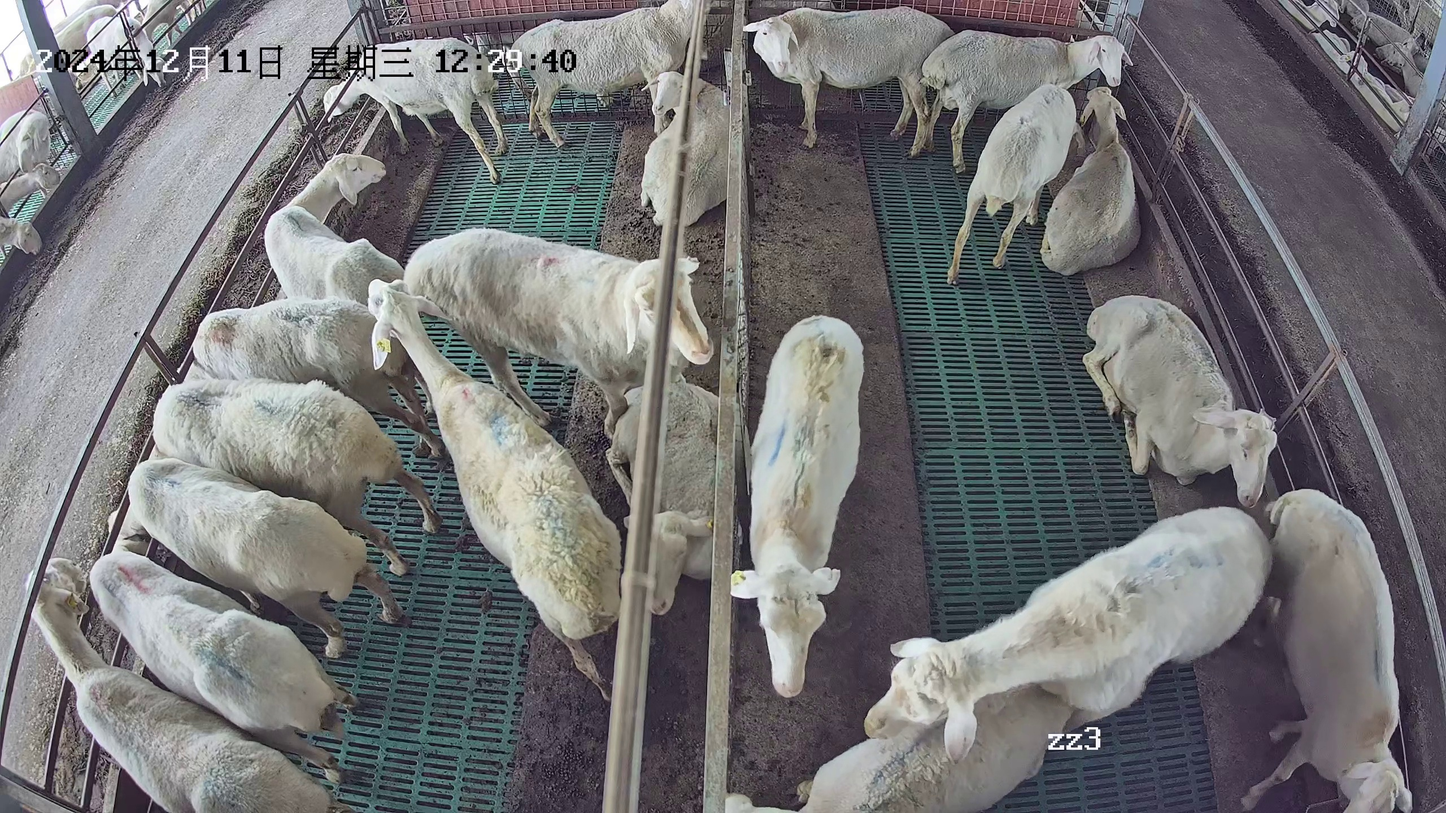Smounting: (791, 505, 1271, 813)
mounted: (794, 680, 1075, 813)
